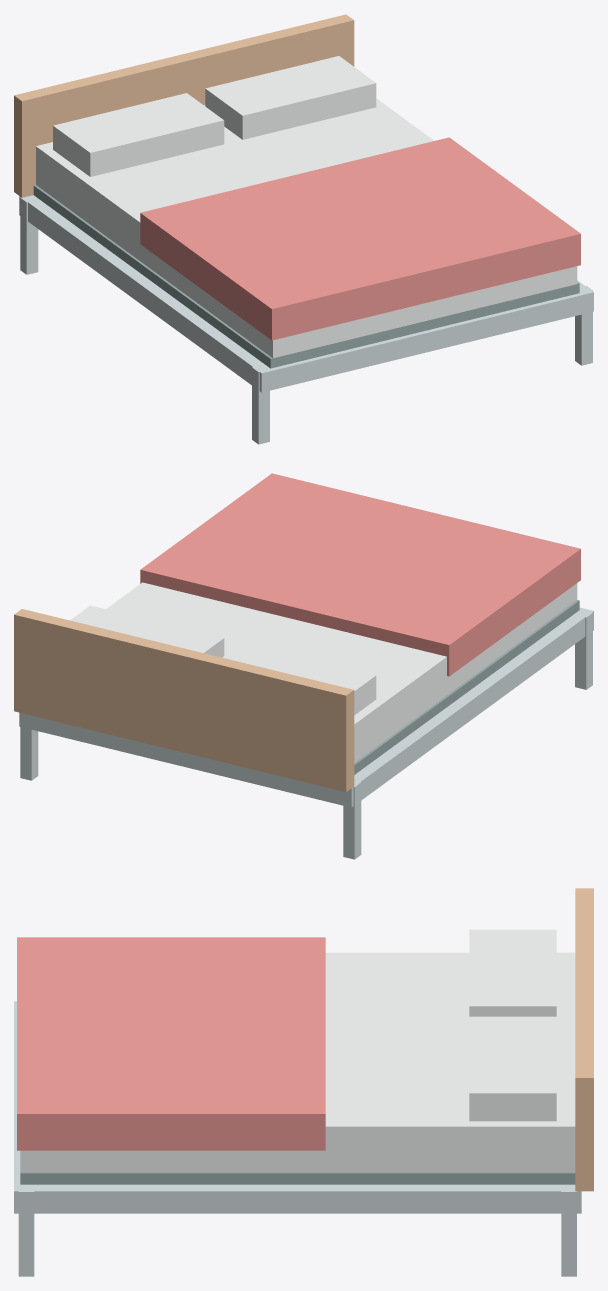
Rendered from bedDoubleBasic.glb.
3 views of the same model, one above another, from view 1: azimuth 30°, elevation 25°; view 2: azimuth 150°, elevation 25°; view 3: azimuth 270°, elevation 25° (orthographic). The views are drawn at different scales.
Visible parts, largest first — view 1: bedDoubleBasic; view 2: bedDoubleBasic; view 3: bedDoubleBasic.
Boxes of the visible parts, box(x1,y1,x2,y2) form: bedDoubleBasic: box(14, 14, 593, 444); bedDoubleBasic: box(14, 473, 593, 859); bedDoubleBasic: box(14, 888, 593, 1276).
Size of the model in its own units: 0.725 by 0.35 by 0.93.
